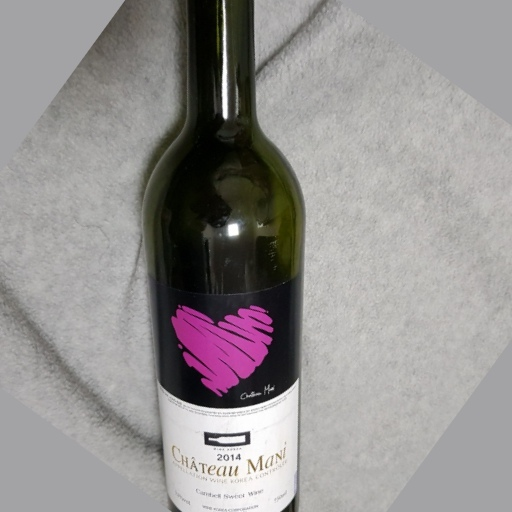Glass_2: (139, 5, 322, 512)
